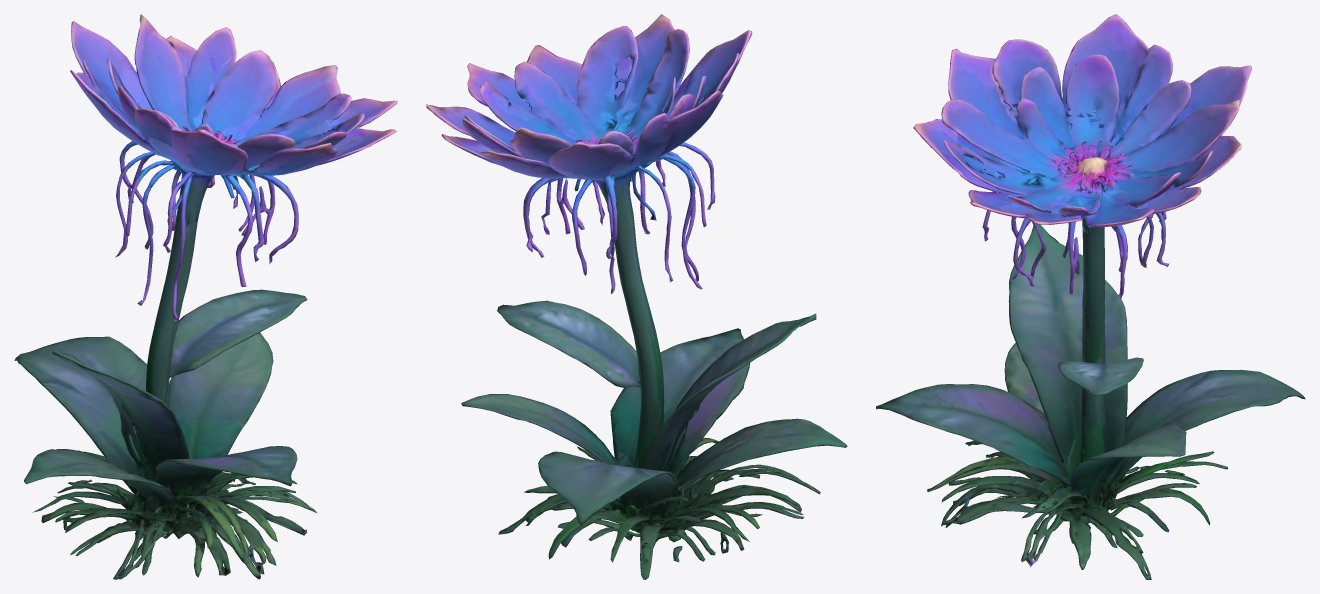
Rendered from plant3.glb.
The picture shows the model from 3 angles, left to right: view 1: azimuth 30°, elevation 25°; view 2: azimuth 150°, elevation 25°; view 3: azimuth 270°, elevation 25°; orthographic projection.
Size of the model in its own units: 1.64 by 1.99 by 1.65.
1 material, 1 textured.
